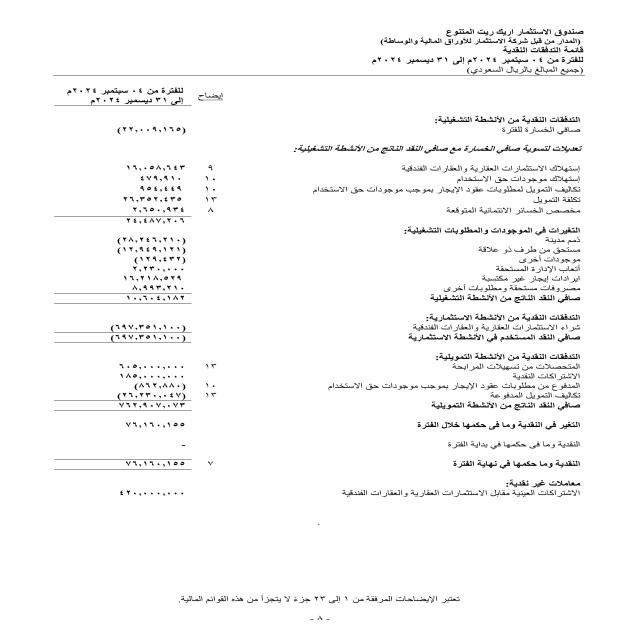financial_sheets: (502, 46, 588, 55)
table: (27, 74, 237, 528)
